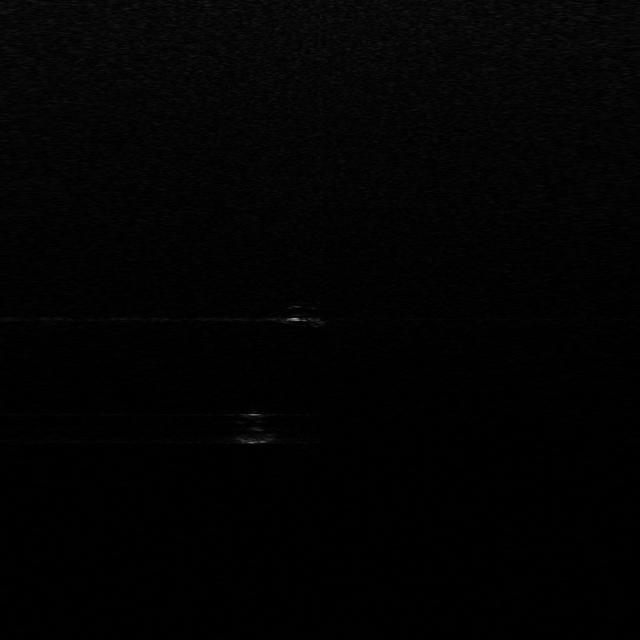ball: (232, 414, 279, 445)
tyre: (277, 304, 331, 329)
